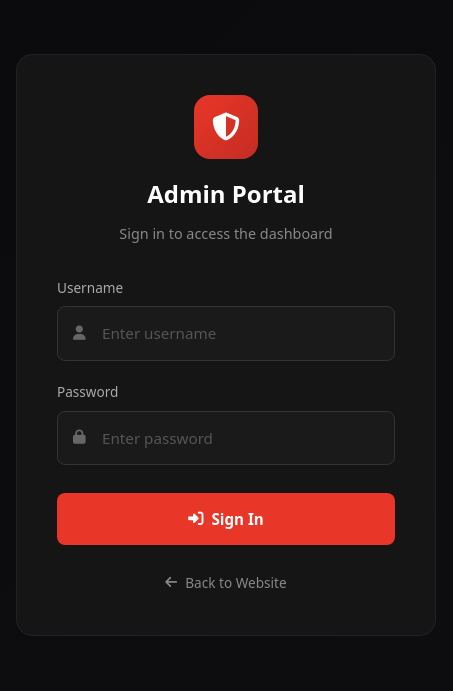
AdminLoginPage › shows an error and does not store a token on invalid credentials
The image size is (453, 691).
Step 1. Type "admin" into the field labelled "Username" → (226, 334), box [57,306,395,361]
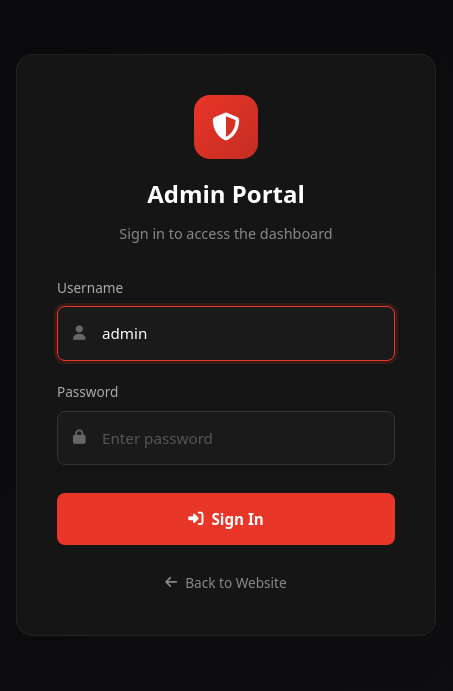
Step 2. Type "wrong-password" into the password field labelled "Password" → (226, 438), box [57,410,395,465]
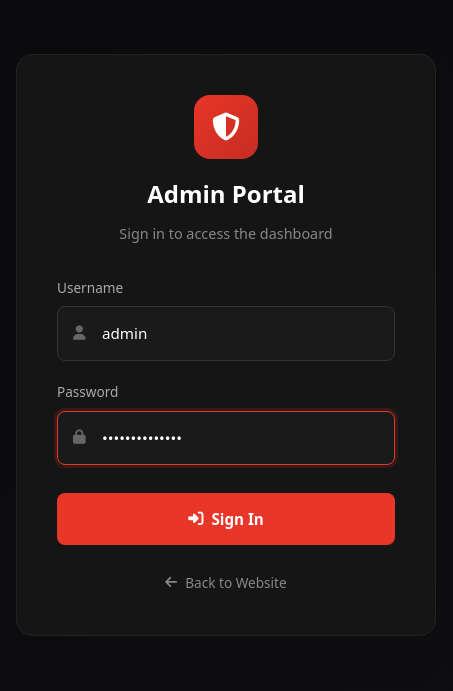
Step 3. Click the button "Sign In" → (226, 519), box [57,493,395,545]
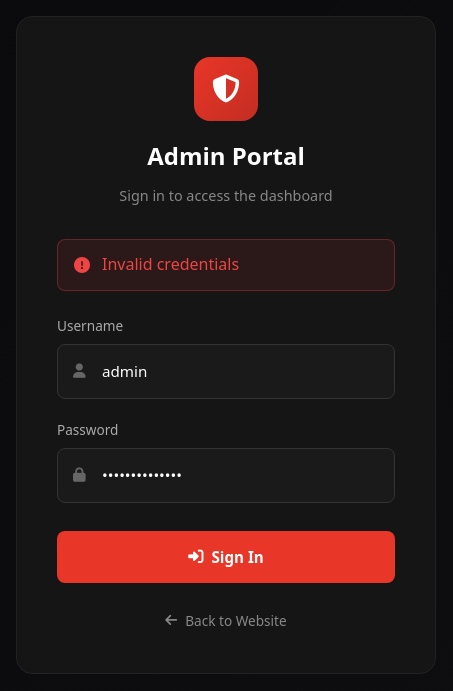
Expected: the text "Invalid credentials" is shown, [102,252,239,278]
